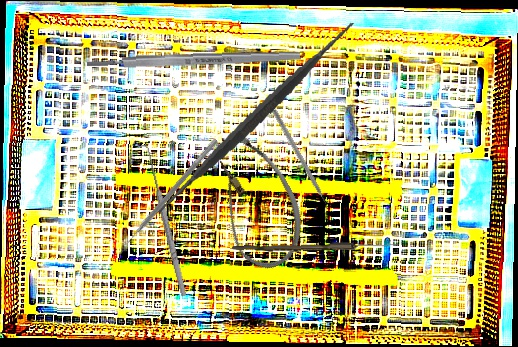Cannula: (189, 122, 320, 279)
Chopper: (266, 108, 332, 215)
Hook Surgical: (136, 143, 190, 298)
Scalpel Handle: (86, 49, 301, 71)
Spatula Surgical: (142, 2, 369, 233), (118, 134, 219, 250)
Surgical Spoon: (231, 240, 400, 254)
